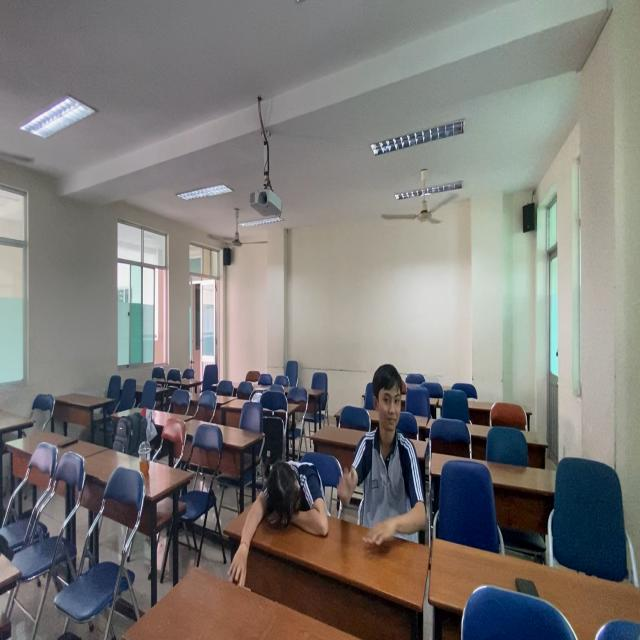sleep: (230, 443, 332, 556)
